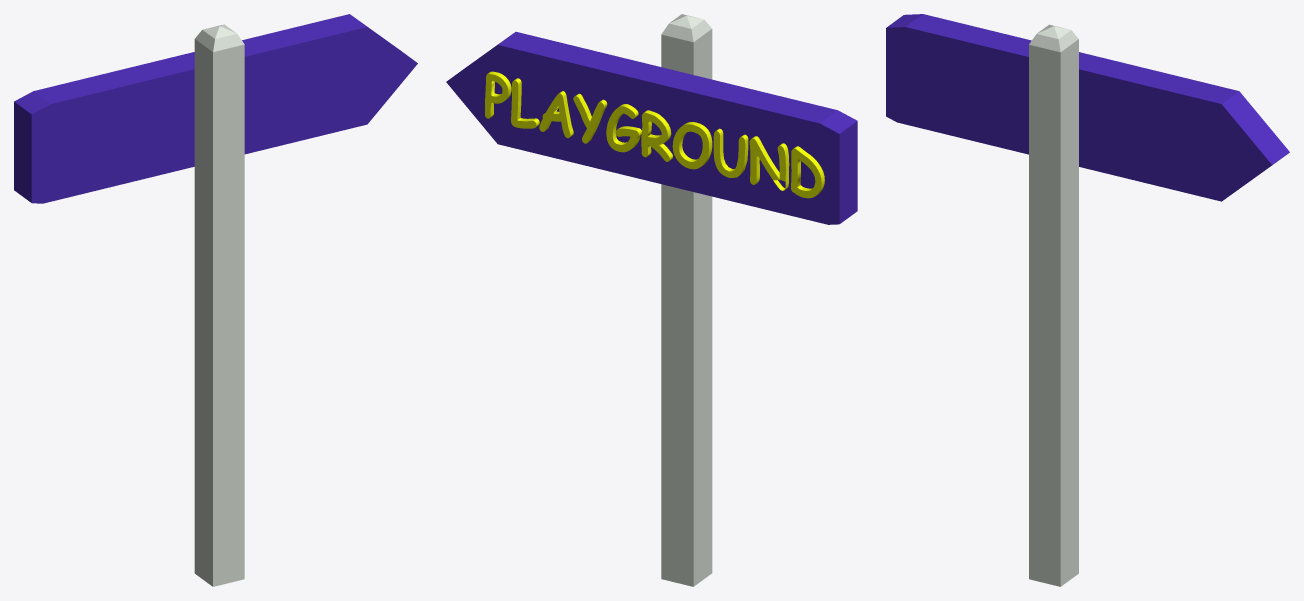
The model's file is sign-playground.glb.
3 renders of one model, left to right at view 1: azimuth 30°, elevation 25°; view 2: azimuth 150°, elevation 25°; view 3: azimuth 330°, elevation 25°, orthographic.
Visible parts, largest first — view 1: Cube.001, Cube; view 2: Cube.001, Cube, PROJECT; view 3: Cube.001, Cube.
Boxes of the visible parts, x1,y1,x2,y2 form: Cube.001: [14, 14, 417, 203]; Cube: [194, 24, 244, 586]; Cube.001: [446, 31, 857, 224]; Cube: [661, 14, 712, 586]; PROJECT: [485, 71, 824, 198]; Cube.001: [886, 14, 1289, 201]; Cube: [1029, 24, 1078, 586].
Size of the model in its own units: 7.08 by 9.64 by 1.34.
